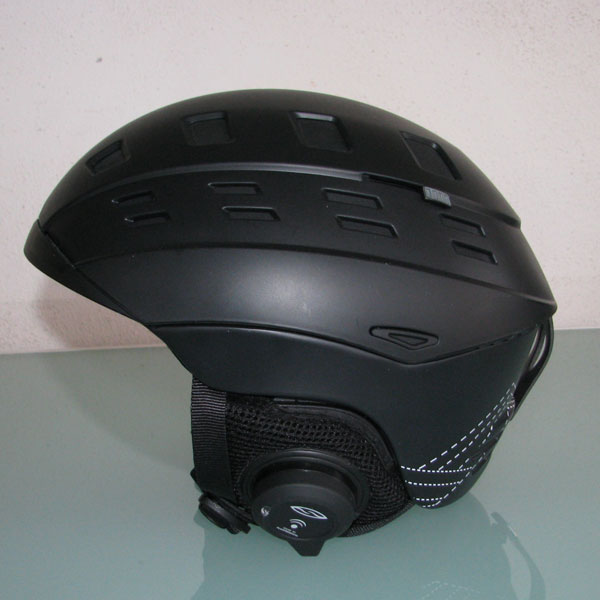helmet: (46, 130, 575, 500)
